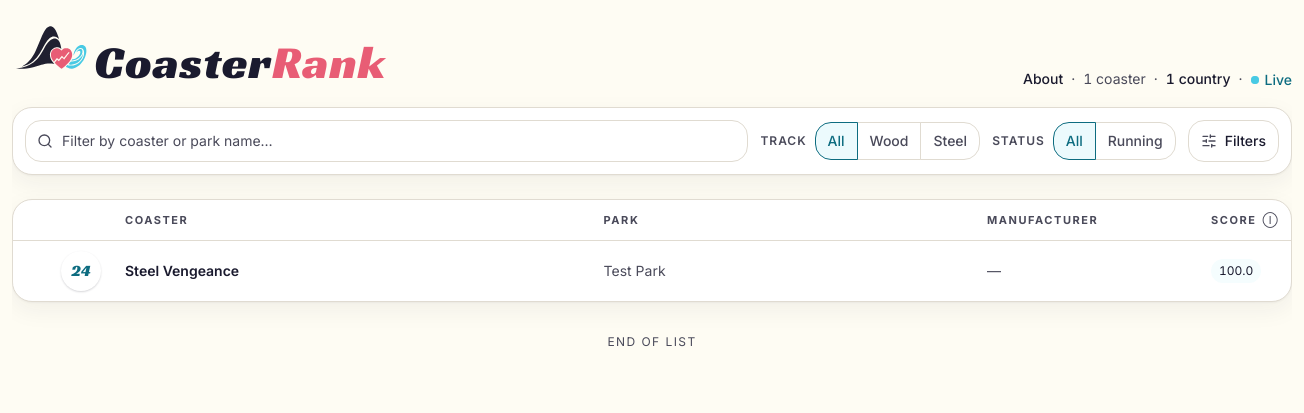
Test: BoardPage › offers country and manufacturer filters in the Filters popover
Click the button "Filters": (1233, 141) [1188,120,1279,162]
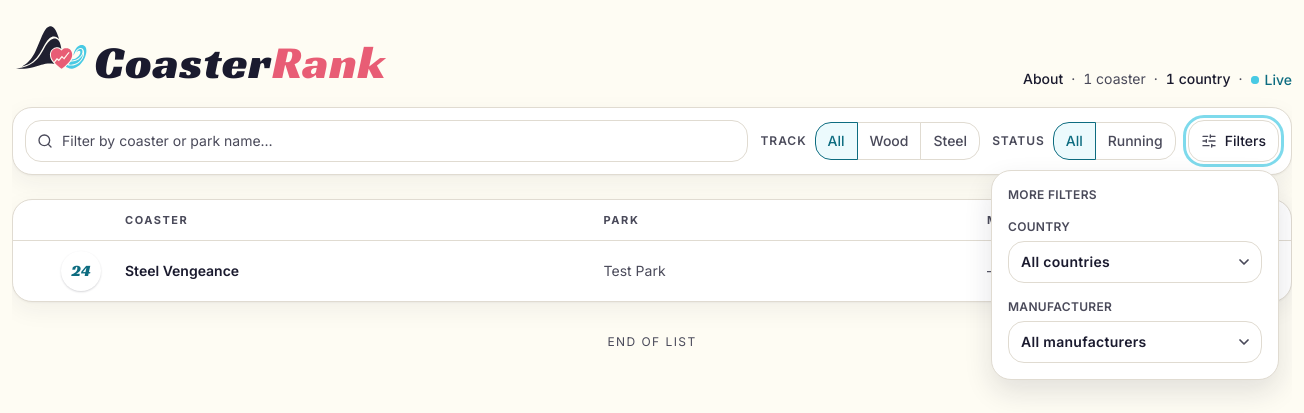
Expected: the dropdown labelled "Country" is shown, [1008,241,1262,283]
Expected: the dropdown labelled "Manufacturer" is shown, [1008,321,1262,363]
